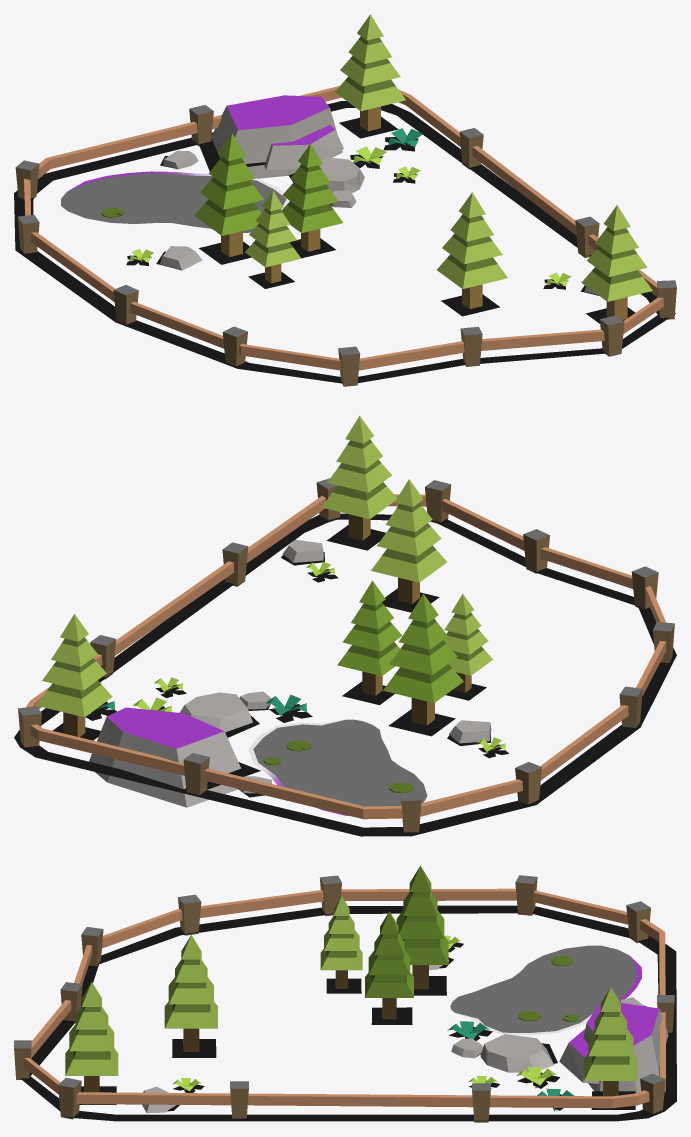
The model's file is xweilan_1001_0.FBX.
3 renders of one model, top to bottom at view 1: azimuth 30°, elevation 25°; view 2: azimuth 150°, elevation 25°; view 3: azimuth 270°, elevation 25°, orthographic. The views are drawn at different scales.
Visible parts, largest first — view 1: xweilan_1001_0; view 2: xweilan_1001_0; view 3: xweilan_1001_0.
Boxes of the visible parts, bbox=[...] form: xweilan_1001_0: bbox=[14, 14, 676, 386]; xweilan_1001_0: bbox=[14, 415, 676, 836]; xweilan_1001_0: bbox=[14, 865, 676, 1122].
Bounding box in the file's own units: 4562 × 1321 × 5916.
